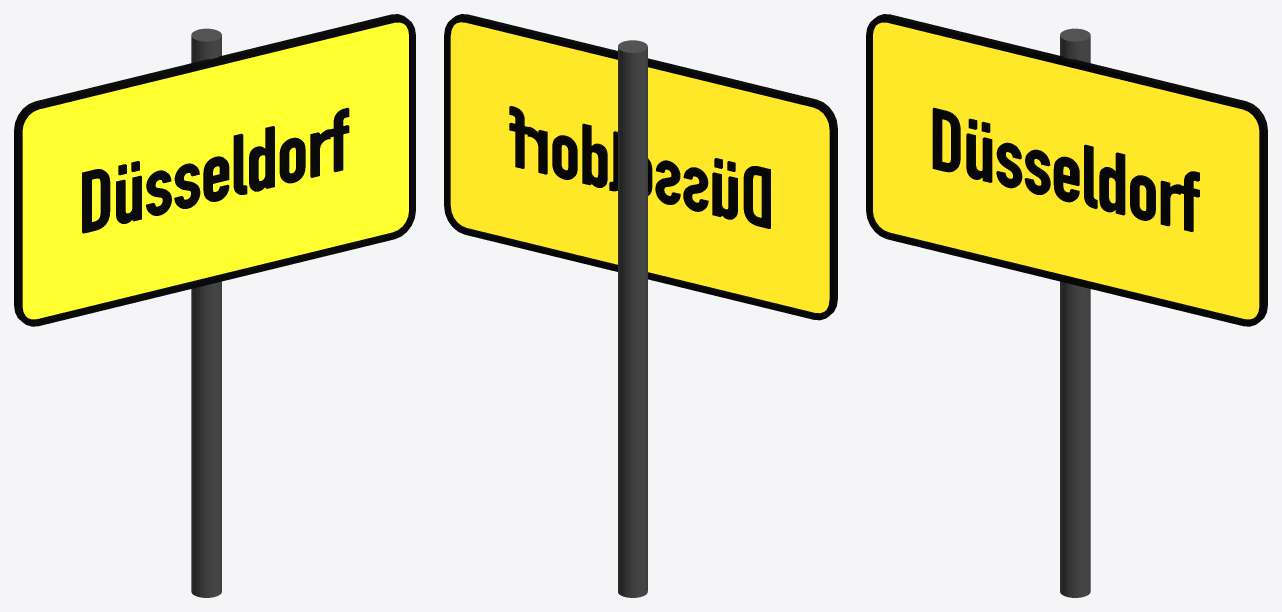
The model's file is dusseldorf_sign.dae.
The picture shows the model from 3 angles, left to right: view 1: azimuth 30°, elevation 25°; view 2: azimuth 150°, elevation 25°; view 3: azimuth 330°, elevation 25°; orthographic projection. The views are drawn at different scales.
Parts seen in each view (by area): view 1: Sign; view 2: Sign; view 3: Sign.
Boxes of the visible parts, x1,y1,x2,y2 form: Sign: (14,14,415,597); Sign: (444,14,837,597); Sign: (866,14,1267,597).
Size of the model in its own units: 1.5 by 0.1147 by 2.
